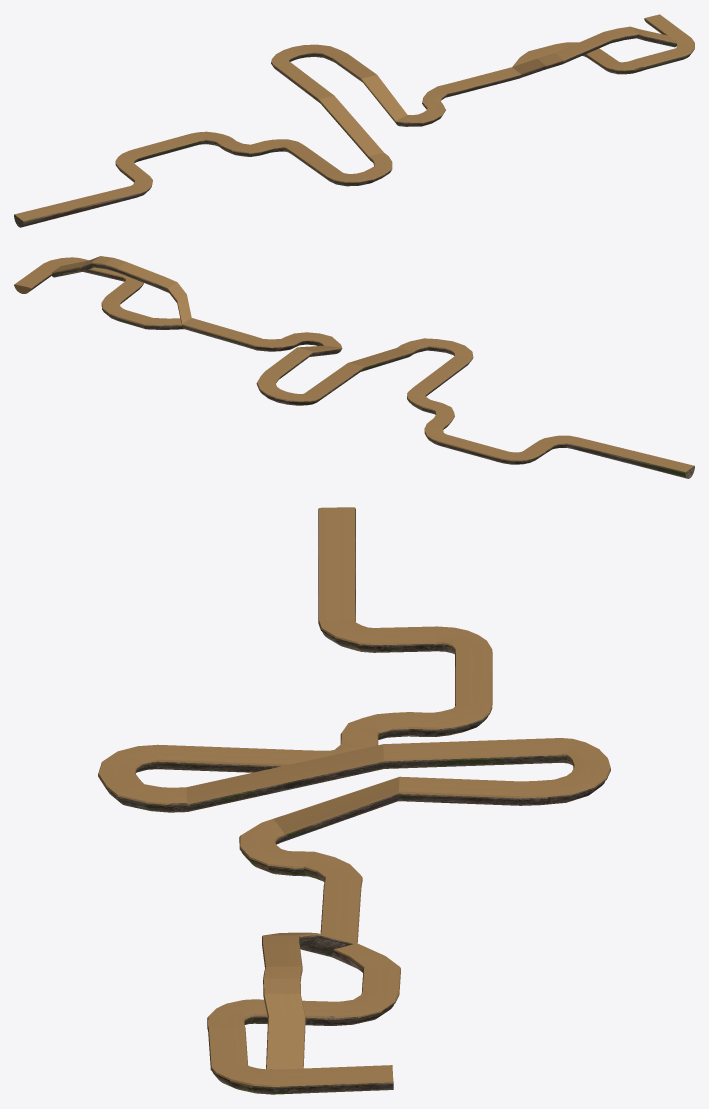
Rendered from BaumstammStreckeUVU.fbx.
The picture shows the model from 3 angles, top to bottom: view 1: azimuth 30°, elevation 25°; view 2: azimuth 150°, elevation 25°; view 3: azimuth 270°, elevation 25°; orthographic projection. The views are drawn at different scales.
Visible parts, largest first — view 1: Cylinder.009; view 2: Cylinder.009; view 3: Cylinder.009.
Part boxes in pixels (<box>): Cylinder.009: <box>14,14,694,227</box>; Cylinder.009: <box>14,256,694,478</box>; Cylinder.009: <box>98,507,610,1094</box>.
Bounding box in the file's own units: 80.11 × 7.16 × 27.09.
